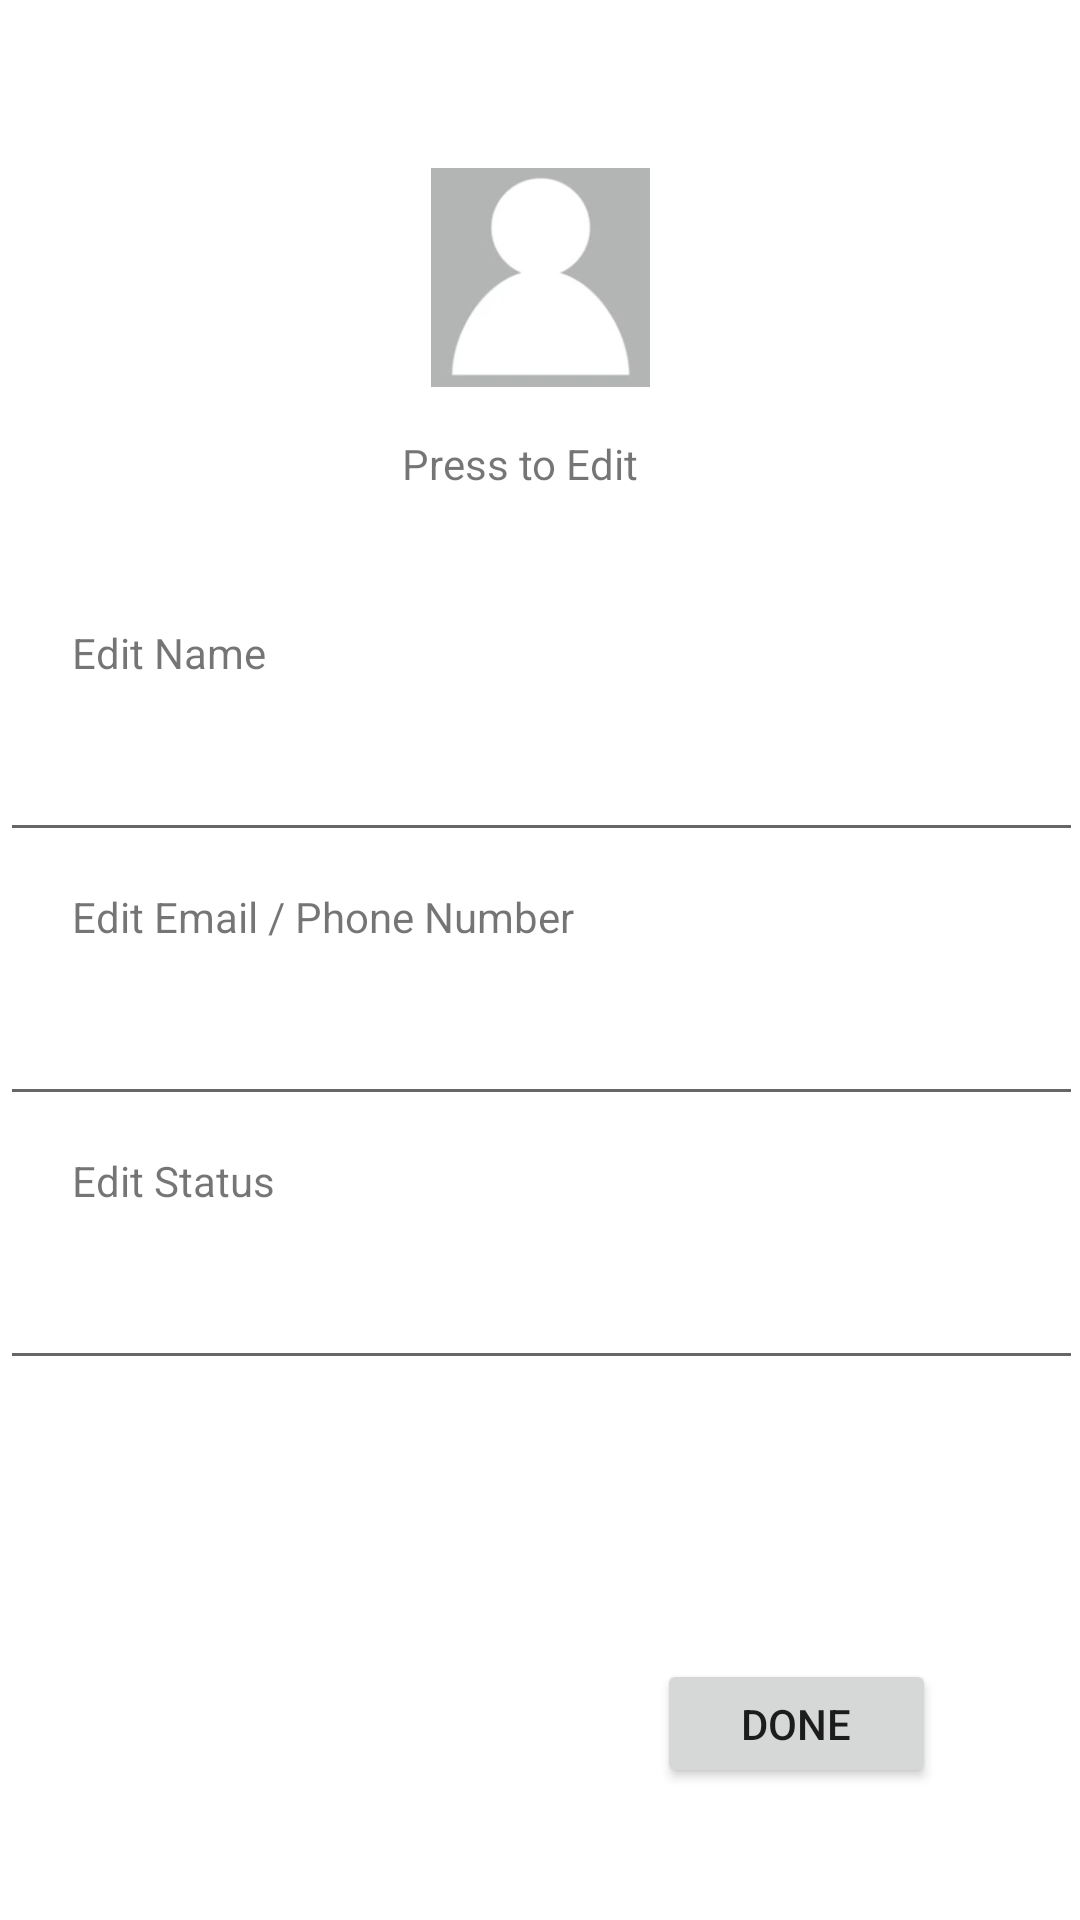

Named icons in this screenshot (1080*1920) and their centers, [x,y]:
profile: [540,277]
